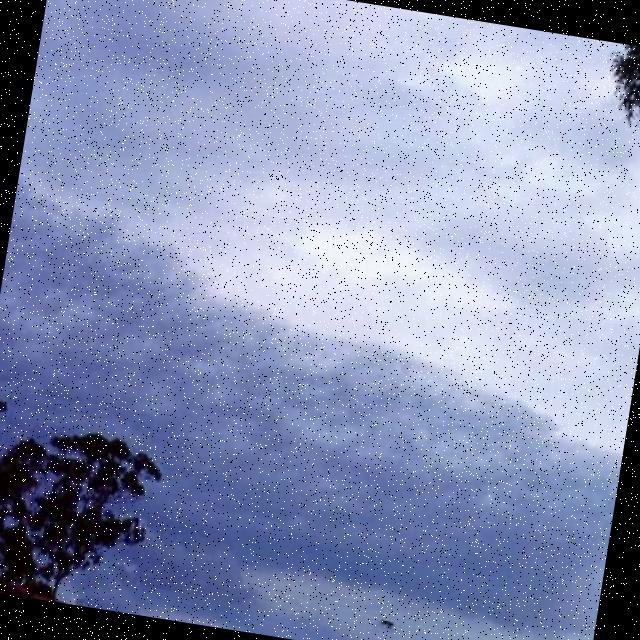Sc: (1, 20, 640, 486)
